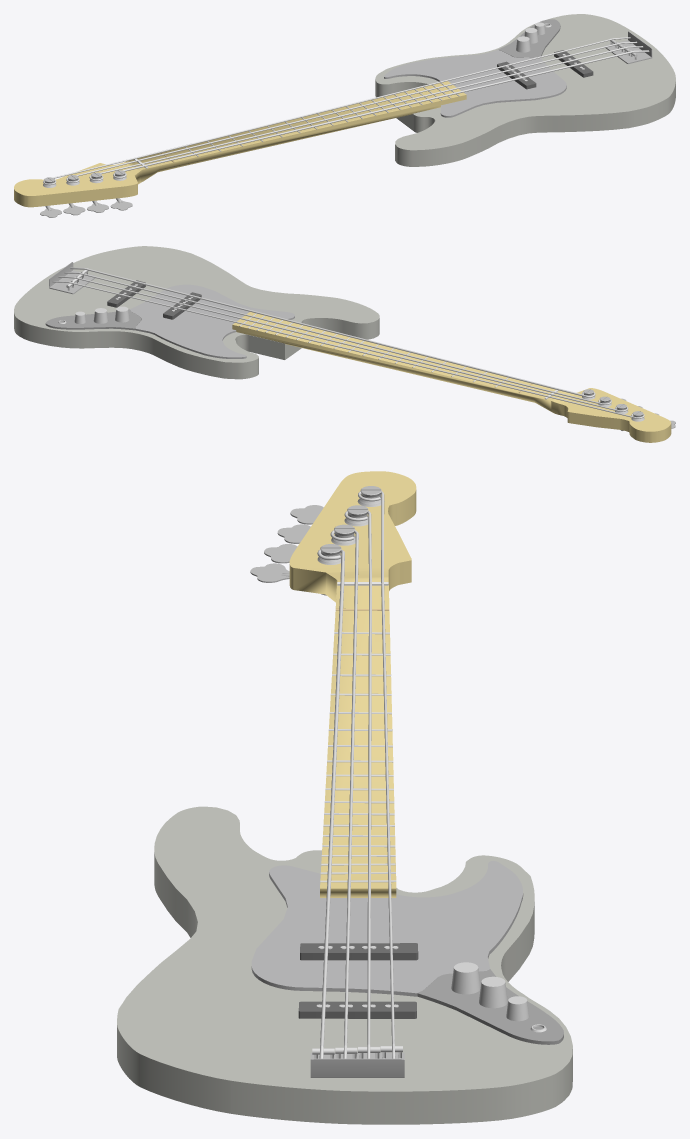
3 renders of one model, top to bottom at view 1: azimuth 30°, elevation 25°; view 2: azimuth 150°, elevation 25°; view 3: azimuth 270°, elevation 25°, orthographic. The views are drawn at different scales.
Visible parts, largest first — view 1: body, fretboard, pickguard, string1, string2, string3, string4, knobplace, bridge, pickup 2, pickup 1; view 2: body, fretboard, pickguard, string1, string4, string3, string2, knobplace, bridge, pickup 2, pickup 1; view 3: body, fretboard, pickguard, knobplace, string1, bridge, string2, string3, string4, pickup 2, pickup 1.
Part boxes in pixels (<box>): body: <box>375,14,675,166</box>; fretboard: <box>14,81,466,207</box>; pickguard: <box>384,50,566,117</box>; string1: <box>113,50,649,178</box>; string2: <box>89,46,643,180</box>; string3: <box>66,41,637,182</box>; string4: <box>43,37,630,184</box>; knobplace: <box>498,19,560,57</box>; bridge: <box>604,31,652,63</box>; pickup 2: <box>554,50,593,77</box>; pickup 1: <box>497,61,536,89</box>; body: <box>14,246,379,379</box>; fretboard: <box>232,312,671,442</box>; pickguard: <box>130,284,294,358</box>; string1: <box>70,267,595,397</box>; string4: <box>52,281,644,418</box>; string3: <box>58,276,628,411</box>; string2: <box>64,272,611,404</box>; knobplace: <box>45,309,141,330</box>; bridge: <box>49,262,96,294</box>; pickup 2: <box>107,280,145,307</box>; pickup 1: <box>163,292,201,319</box>; body: <box>117,806,572,1124</box>; fretboard: <box>289,471,416,897</box>; pickguard: <box>251,861,523,996</box>; knobplace: <box>417,969,563,1044</box>; string1: <box>317,549,344,1058</box>; bridge: <box>310,1052,404,1077</box>; string2: <box>330,530,358,1058</box>; string3: <box>344,511,371,1058</box>; string4: <box>358,491,395,1058</box>; pickup 2: <box>298,1001,416,1018</box>; pickup 1: <box>300,943,418,960</box>.
Size of the model in its own units: 4.61 by 0.2033 by 1.46.
